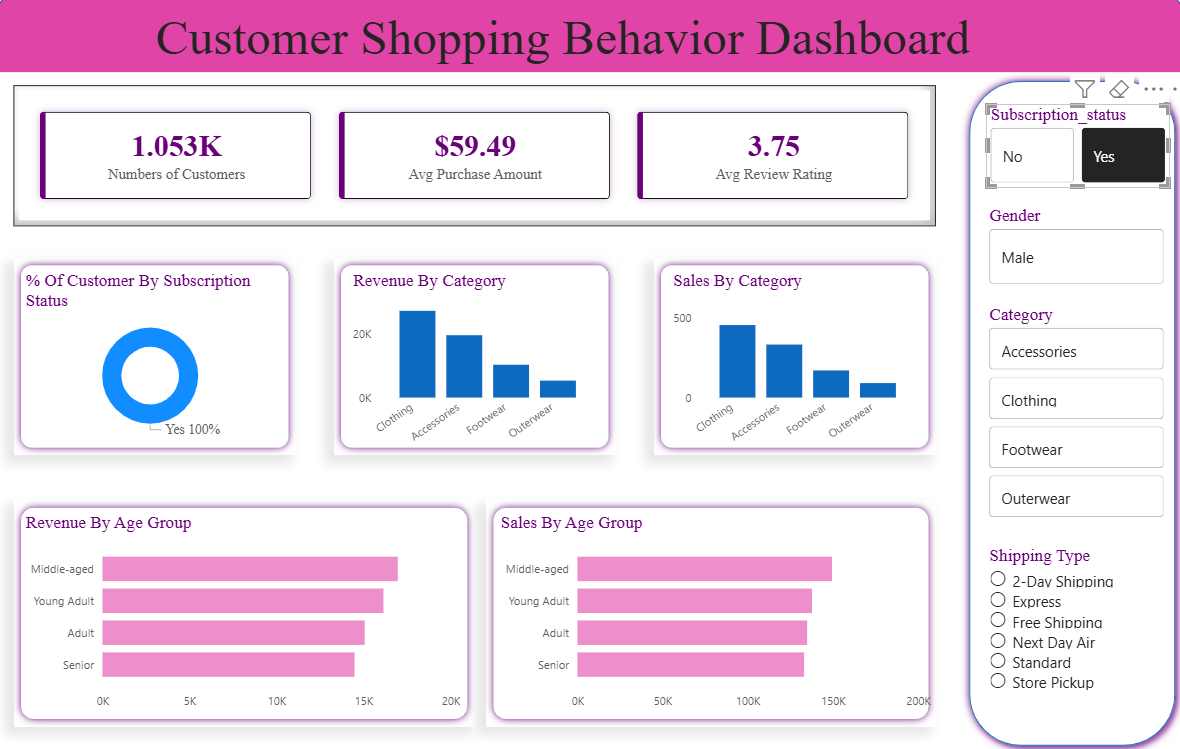

The page's visual inventory and layout, read from the dashboard file:
{"tool":"powerbi","page":{"name":"Page 1","canvas":[1280,820],"ordinal":0},"visuals":[{"type":"cardVisual","fields":{"Data":["public customer.Numbers of Customers","public customer.Avg Purchase Amount","public customer.Avg Review Rating"]},"box":[18.9,98.4,994.6,152.3],"z":0},{"type":"shape","box":[0,0,1280.3,85.1],"z":1000},{"type":"textbox","box":[167.4,12.3,948.2,97.4],"z":2000},{"type":"shape","box":[18.9,284.4,304.6,212.9],"z":3000},{"type":"donutChart","title":"% Of Customer By Subscription Status","fields":{"Category":["public customer.subscription_status"],"Y":["Count(public customer.customer_id)"]},"box":[27,297.8,279,186],"z":4000},{"type":"shape","box":[708.9,284.4,304.6,212.9],"z":5000},{"type":"shape","box":[363.9,284.4,304.6,212.9],"z":6000},{"type":"clusteredColumnChart","title":"Revenue By Category","fields":{"Y":["Sum(public customer.purchase_amount)"],"Category":["public customer.category"]},"box":[380,297.8,272.2,199.5],"z":7000},{"type":"clusteredColumnChart","title":"Sales By Category","fields":{"Y":["CountNonNull(public customer.customer_id)"],"Category":["public customer.category"]},"box":[725,297.8,272.2,199.5],"z":8000},{"type":"shape","box":[1040.4,84.9,239.9,734.5],"z":9000},{"type":"advancedSlicerVisual","title":"Subscription_status","fields":{"Values":["public customer.subscription_status"]},"box":[1067.3,118.6,198.1,90.3],"z":10000},{"type":"advancedSlicerVisual","title":"Gender","fields":{"Values":["public customer.gender"]},"box":[1066,227.8,198.1,90.3],"z":11000},{"type":"advancedSlicerVisual","title":"Category","fields":{"Values":["public customer.category"]},"box":[1066,334.2,198.1,237.2],"z":12000},{"type":"listSlicer","title":"Shipping Type","fields":{"Values":["public customer.shipping_type"]},"box":[1066,594.3,148.2,208.9],"z":13000},{"type":"shape","box":[18.9,545.8,497.3,243.9],"z":13002},{"type":"clusteredBarChart","title":"Revenue By Age Group","fields":{"Y":["Sum(public customer.purchase_amount)"],"Category":["public customer.age_group"]},"box":[27,559.3,478.4,221],"z":13003},{"type":"shape","box":[528.3,545.8,485.2,243.9],"z":13004},{"type":"clusteredBarChart","title":"Sales By Age Group","fields":{"Category":["public customer.age_group"],"Y":["Sum(public customer.customer_id)"]},"box":[539.1,559.3,474.4,221],"z":13005}]}

Visuals, with their boxes in screenshot pixels (x1, y1, x2, y2), scaled from the page's 1280x820 canvas onto the 1180x749 screenshot:
cardVisual - public customer.Numbers of Customers x public customer.Avg Purchase Amount: x1=17, y1=90, x2=934, y2=229
shape: x1=0, y1=0, x2=1179, y2=78
textbox: x1=154, y1=11, x2=1028, y2=100
shape: x1=17, y1=260, x2=298, y2=454
"% Of Customer By Subscription Status" donutChart: x1=25, y1=272, x2=282, y2=442
shape: x1=654, y1=260, x2=934, y2=454
shape: x1=335, y1=260, x2=616, y2=454
"Revenue By Category" clusteredColumnChart: x1=350, y1=272, x2=601, y2=454
"Sales By Category" clusteredColumnChart: x1=668, y1=272, x2=919, y2=454
shape: x1=959, y1=78, x2=1179, y2=748
"Subscription_status" advancedSlicerVisual: x1=984, y1=108, x2=1167, y2=191
"Gender" advancedSlicerVisual: x1=983, y1=208, x2=1165, y2=291
"Category" advancedSlicerVisual: x1=983, y1=305, x2=1165, y2=522
"Shipping Type" listSlicer: x1=983, y1=543, x2=1119, y2=734
shape: x1=17, y1=499, x2=476, y2=721
"Revenue By Age Group" clusteredBarChart: x1=25, y1=511, x2=466, y2=713
shape: x1=487, y1=499, x2=934, y2=721
"Sales By Age Group" clusteredBarChart: x1=497, y1=511, x2=934, y2=713
